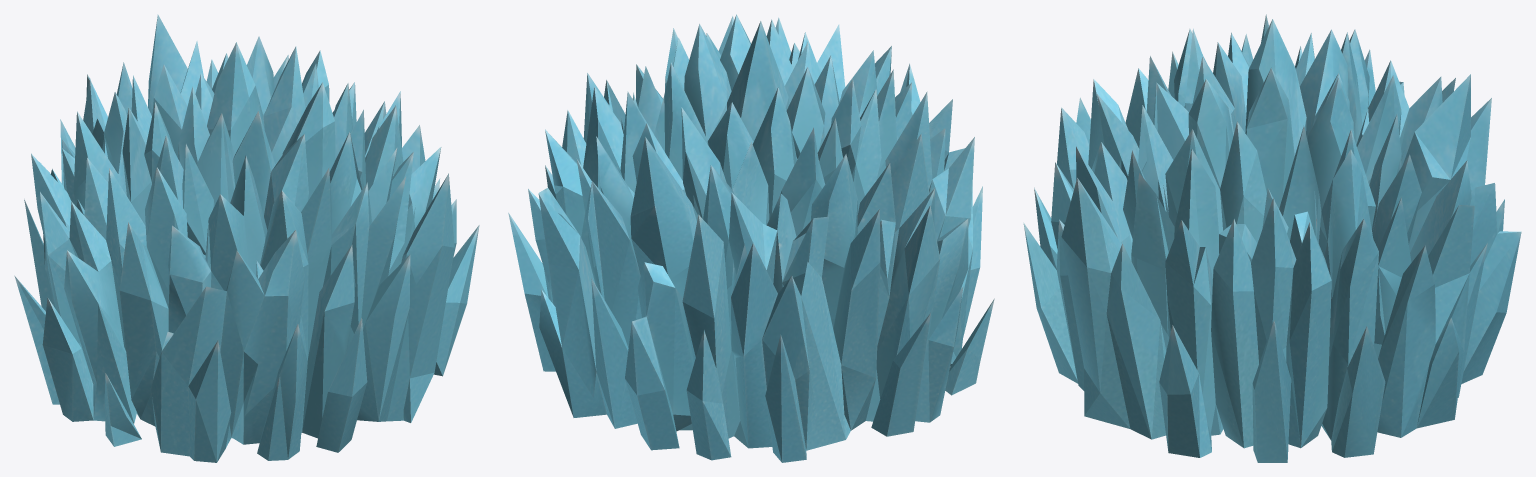
The model's file is ice_crystal.glb.
3 renders of one model, left to right at view 1: azimuth 30°, elevation 25°; view 2: azimuth 150°, elevation 25°; view 3: azimuth 270°, elevation 25°, orthographic. The views are drawn at different scales.
Size of the model in its own units: 1.83 by 1.49 by 1.89.
1 material, 1 textured.
